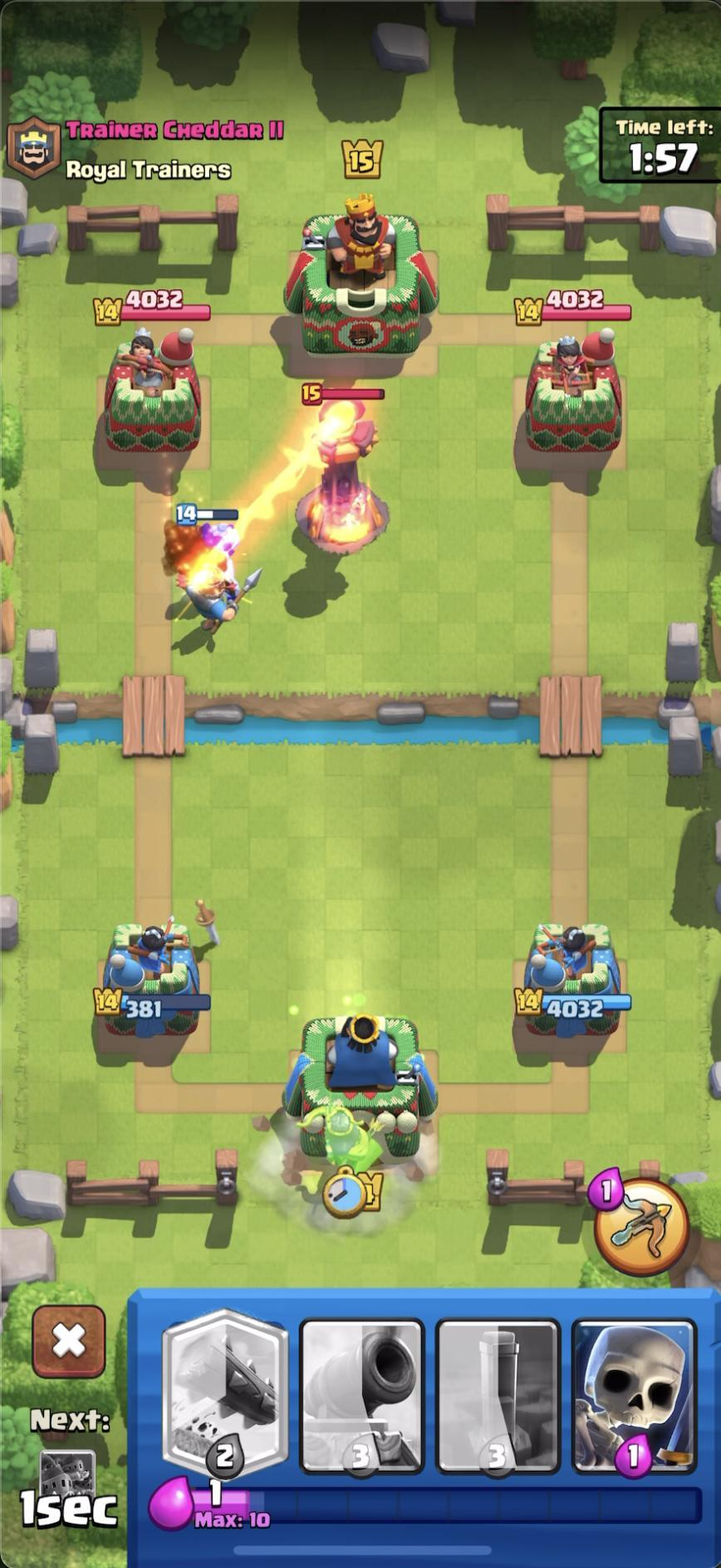card_cannon: (302, 1317, 428, 1482)
card_log: (160, 1307, 291, 1485)
card_royalhogs: (25, 1446, 110, 1532)
card_skeletons: (574, 1317, 696, 1475)
